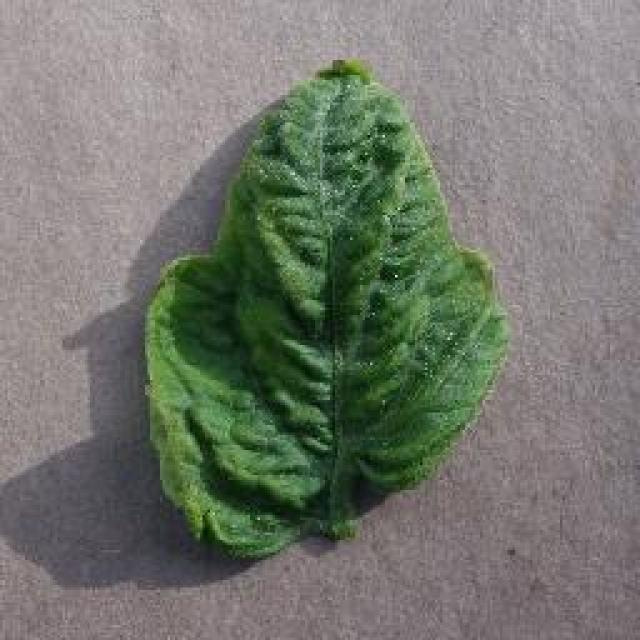Tomato yellow virus leaf: (138, 60, 508, 558)
